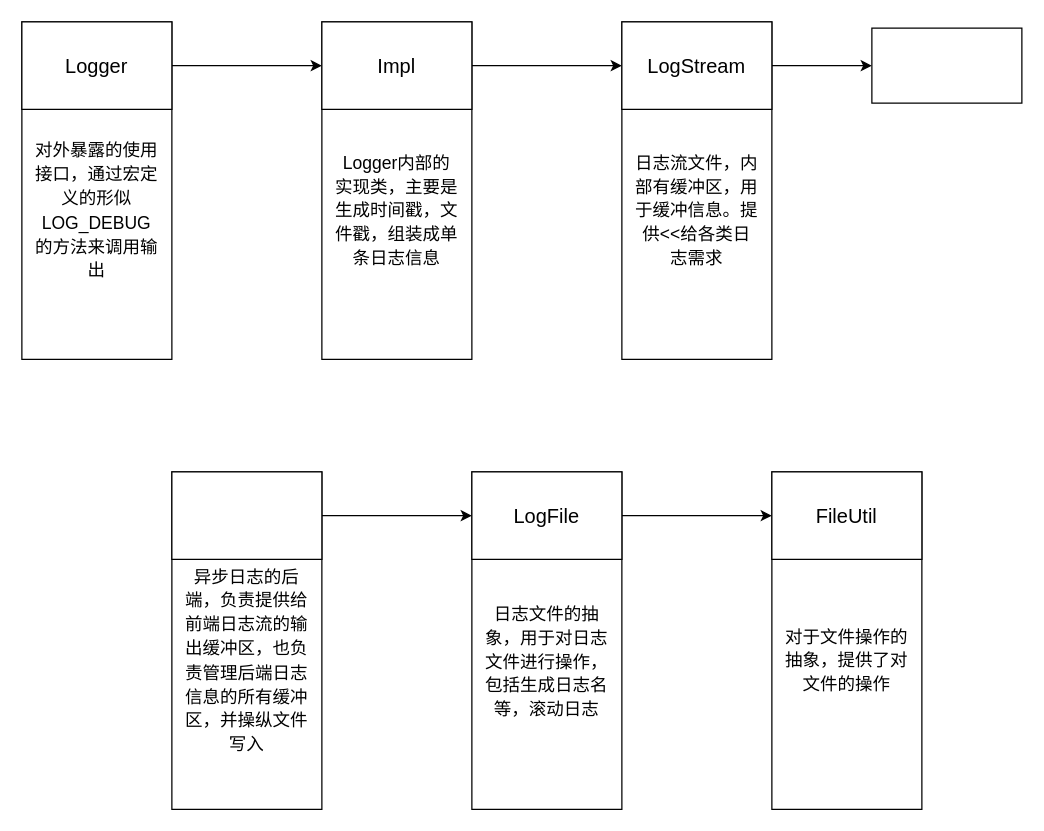
The diagram is 1044 pixels wide and 831 high, and some of its shapes have lost their labels. The shapes that lost their labels are listed below. From the top down, each one's centre as x and y in pixels, then its label:
point 946,65: StreamBuffer
point 246,515: AsyncLog
